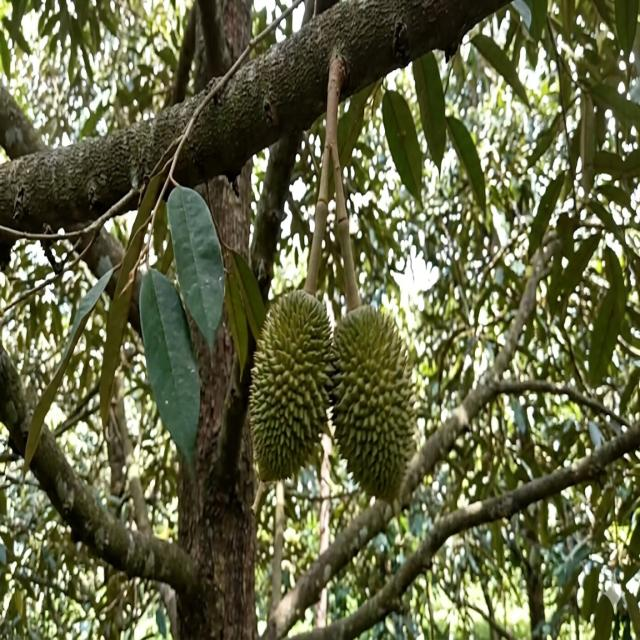immature: (330, 306, 415, 502), (249, 290, 331, 481)
